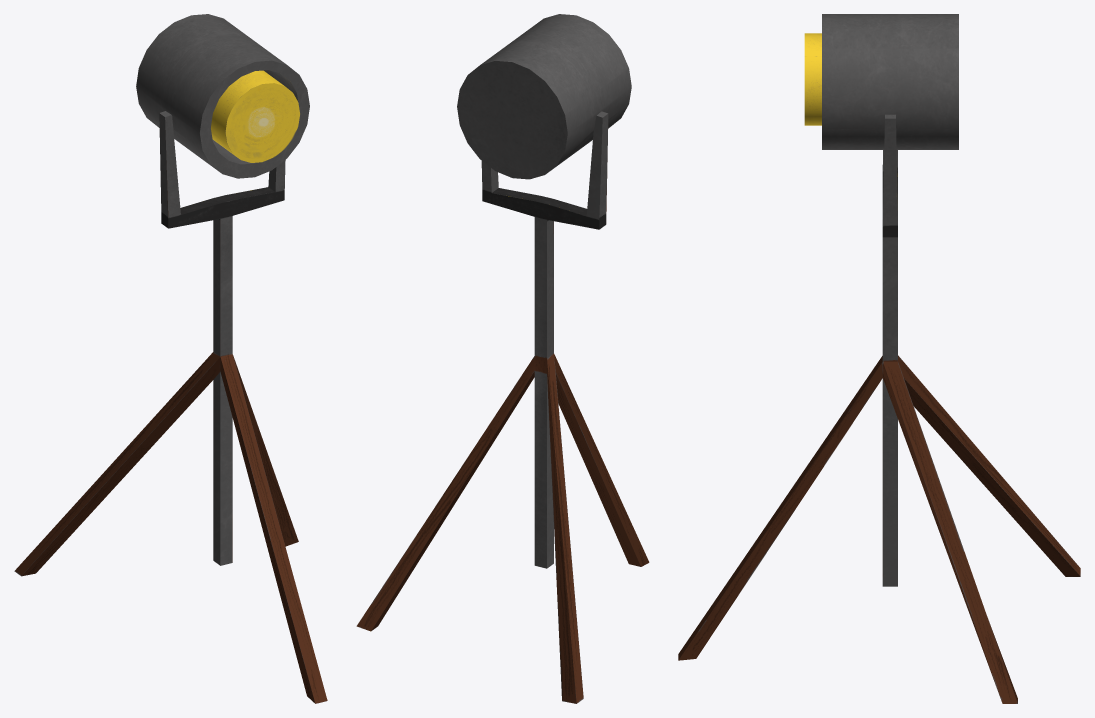
The model's file is Auditorium_Light.fbx.
3 views of the same model, side by side, from view 1: azimuth 30°, elevation 25°; view 2: azimuth 150°, elevation 25°; view 3: azimuth 270°, elevation 25° (orthographic). The views are drawn at different scales.
Visible parts, largest first — view 1: polySurface12; view 2: polySurface12; view 3: polySurface12.
Boxes of the visible parts, bbox=[...] form: polySurface12: bbox=[14, 14, 327, 703]; polySurface12: bbox=[356, 14, 649, 703]; polySurface12: bbox=[678, 14, 1080, 703].
Bounding box in the file's own units: 13.09 × 29.82 × 17.06.
Materials: 1 (1 with a texture image).
